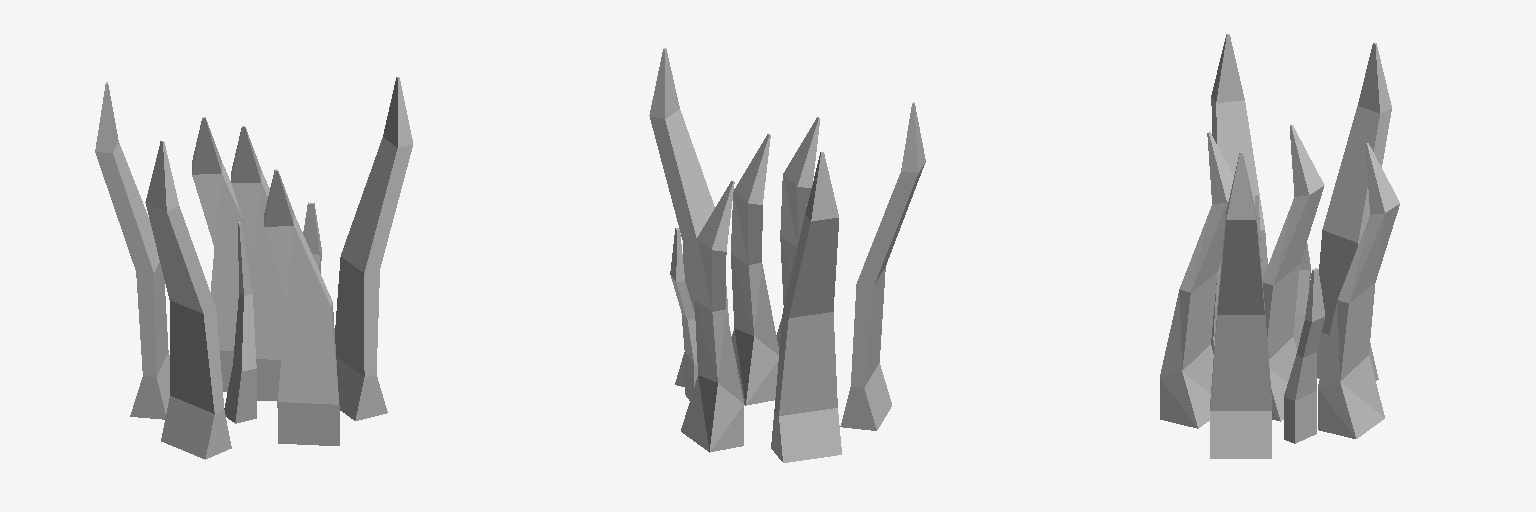
Rendered from grass_1.obj.
3 renders of one model, left to right at view 1: azimuth 30°, elevation 25°; view 2: azimuth 150°, elevation 25°; view 3: azimuth 270°, elevation 25°, orthographic.
Size of the model in its own units: 0.9193 by 1.1 by 0.7344.